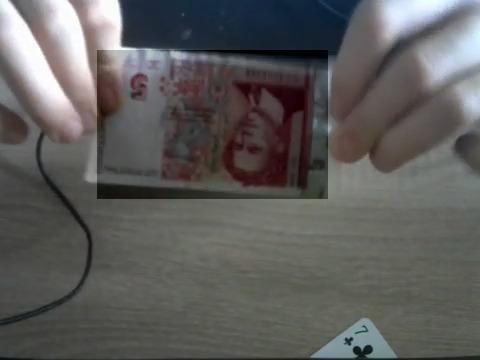5leva: (97, 50, 328, 199)
